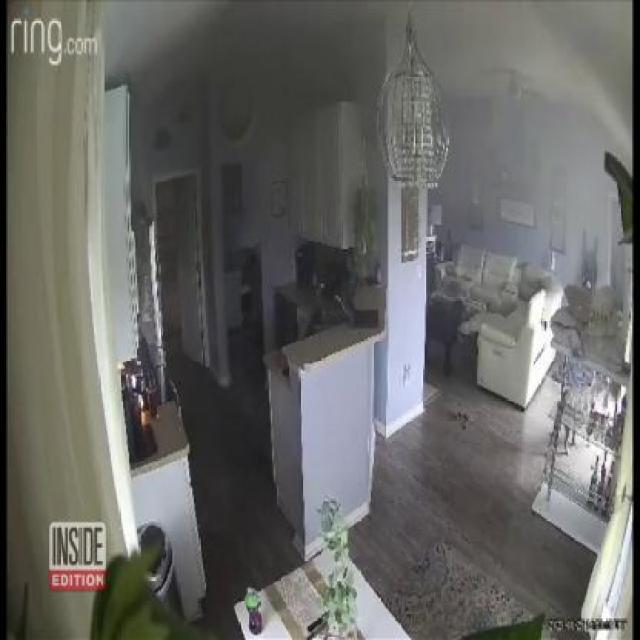smoke: (135, 8, 351, 104), (455, 94, 580, 186)
